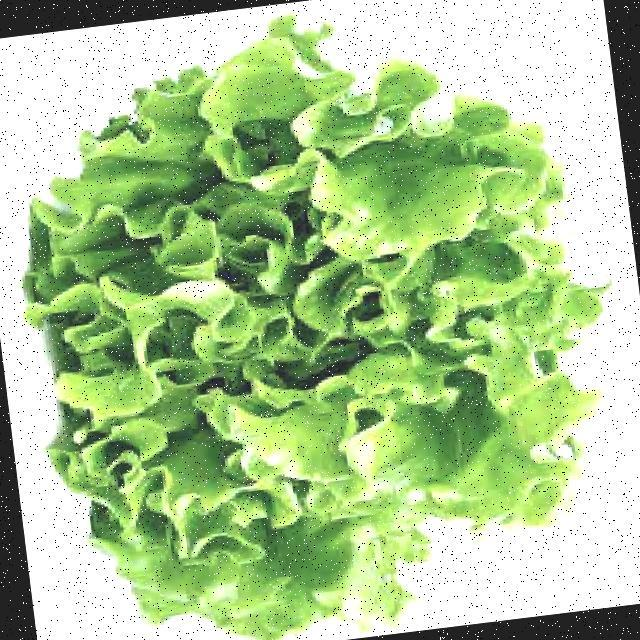Healthy: (40, 70, 568, 582)
